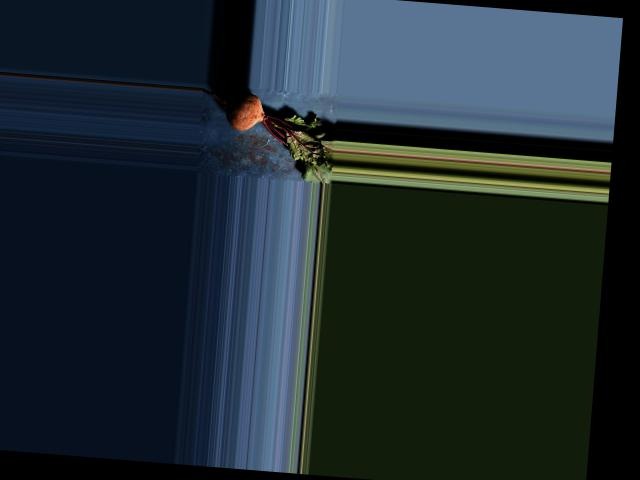beet: (196, 88, 339, 184)
